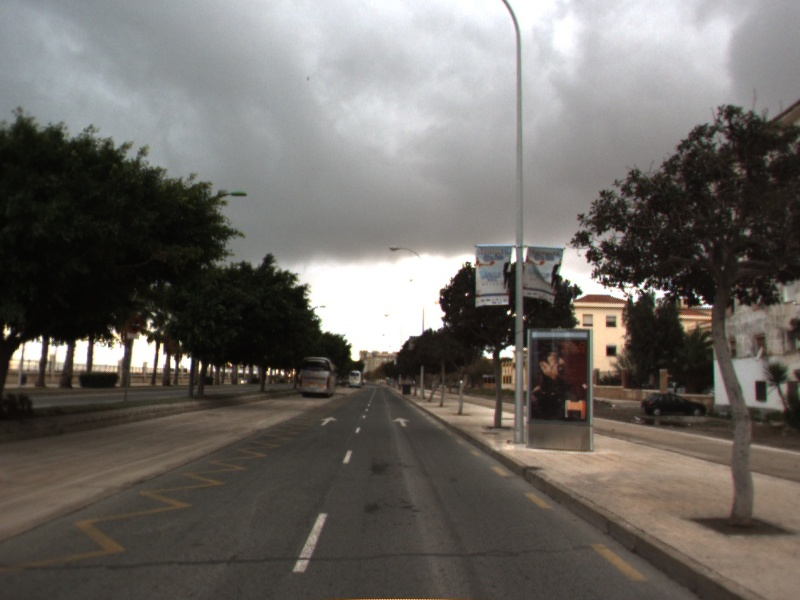STRAIGHT: (391, 415, 412, 428), (319, 415, 339, 427)
